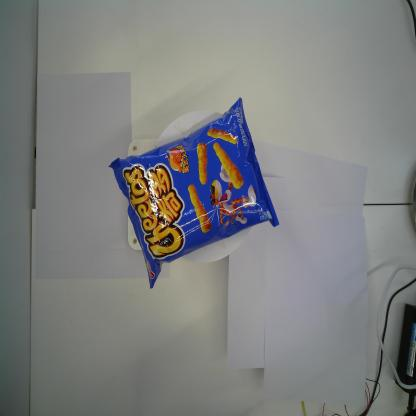Puffed Food: (107, 94, 281, 290)
